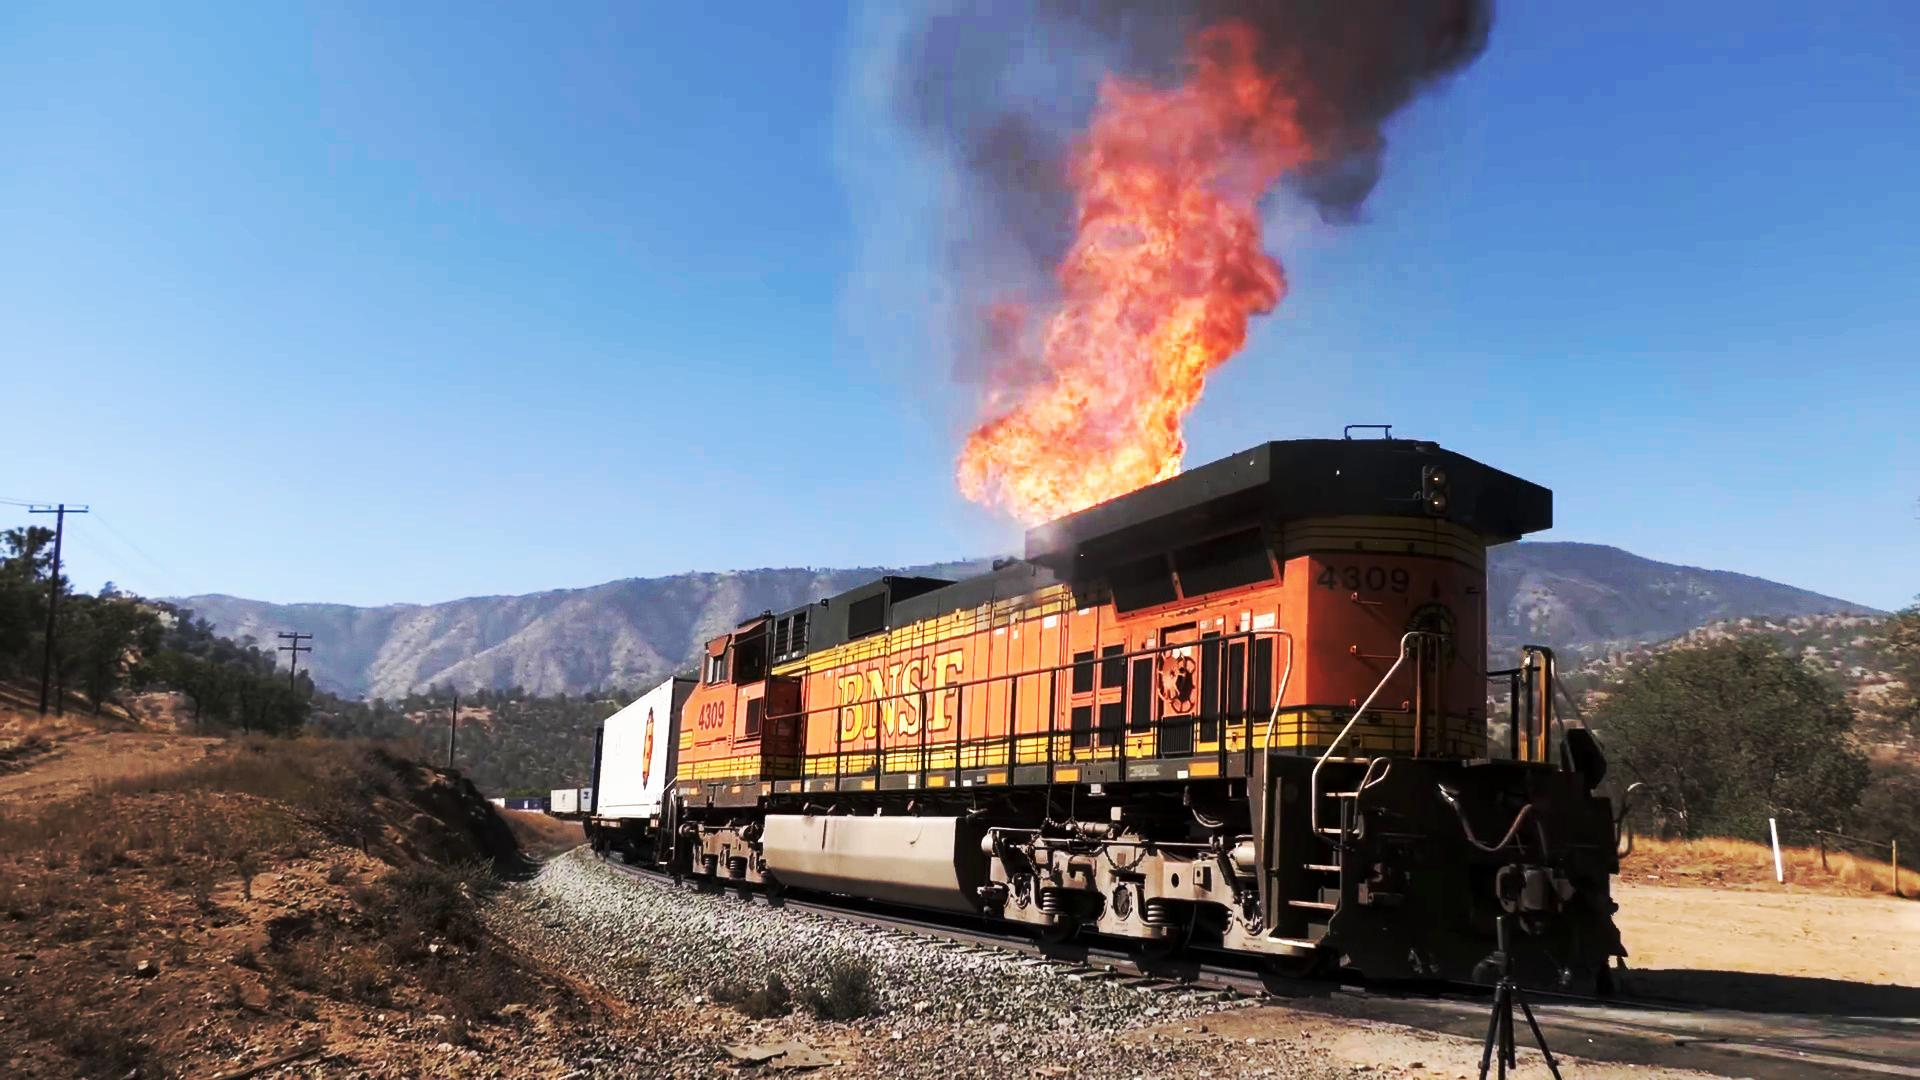fire: (963, 83, 1258, 498)
